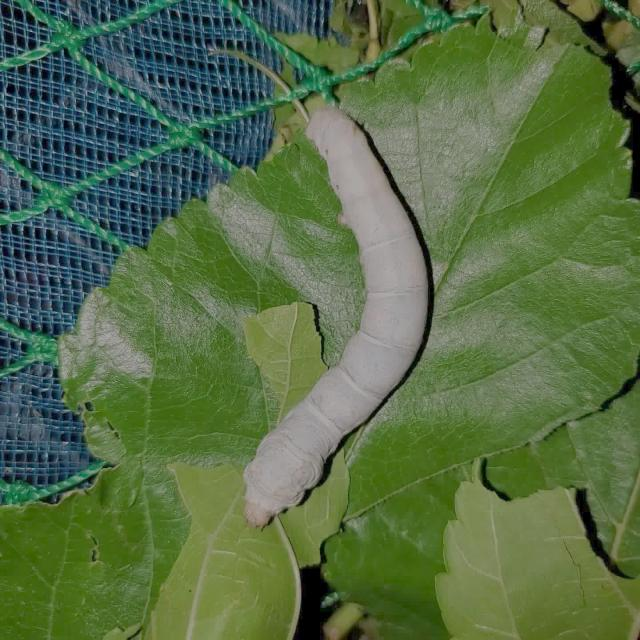Healthy: (240, 98, 442, 534)
